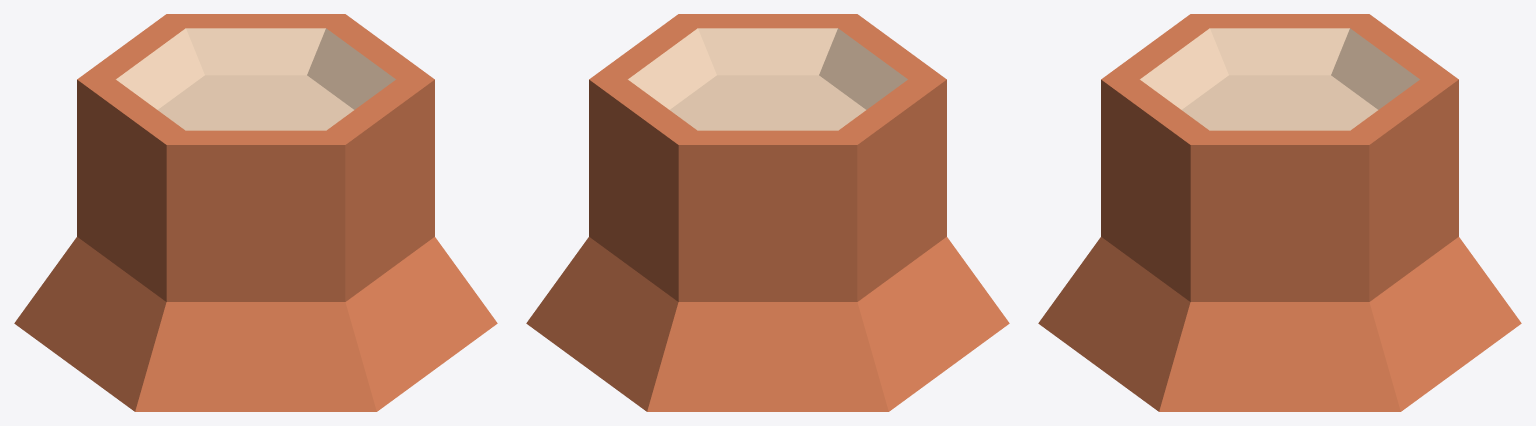
Rendered from stump.obj.
3 renders of one model, left to right at view 1: azimuth 30°, elevation 25°; view 2: azimuth 150°, elevation 25°; view 3: azimuth 270°, elevation 25°, orthographic.
Size of the model in its own units: 0.3213 by 0.2065 by 0.371.
